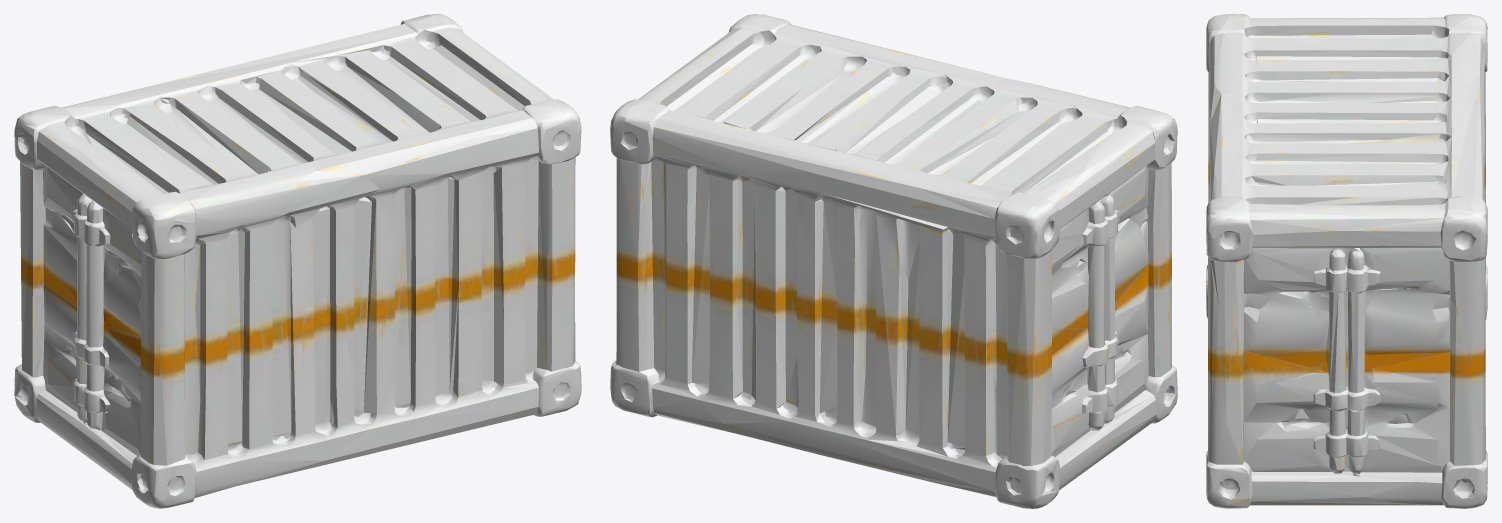
The picture shows the model from 3 angles, left to right: view 1: azimuth 30°, elevation 25°; view 2: azimuth 150°, elevation 25°; view 3: azimuth 270°, elevation 25°; orthographic projection.
Size of the model in its own units: 1.88 by 1.24 by 1.07.
Materials: 1 (1 with a texture image).
